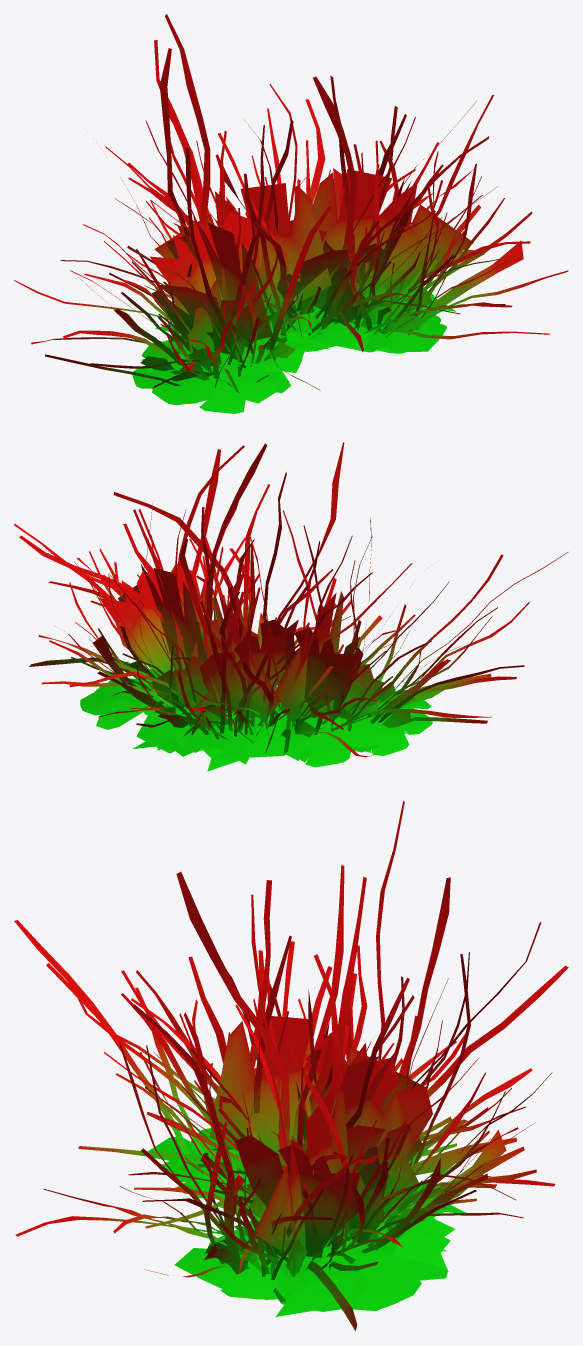
Rendered from Wild Grass_LOD2_Var2_vdilbaiia.fbx.
3 views of the same model, one above another, from view 1: azimuth 30°, elevation 25°; view 2: azimuth 150°, elevation 25°; view 3: azimuth 270°, elevation 25° (orthographic). The views are drawn at different scales.
Visible parts, largest first — view 1: _423c_Var2_LOD2; view 2: _423c_Var2_LOD2; view 3: _423c_Var2_LOD2.
Boxes of the visible parts, <box> form: _423c_Var2_LOD2: <box>14,14,568,413</box>; _423c_Var2_LOD2: <box>14,442,568,771</box>; _423c_Var2_LOD2: <box>14,801,568,1330</box>.
Bounding box in the file's own units: 151 × 94.41 × 123.
